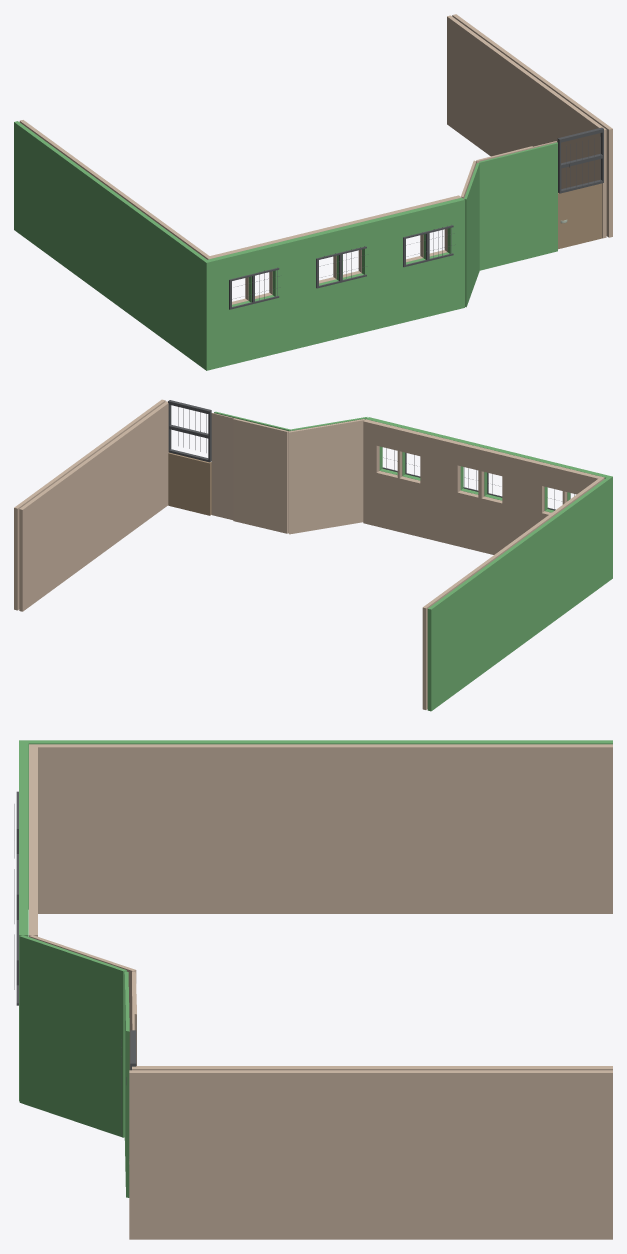
File: casa.glb
The picture shows the model from 3 angles, top to bottom: view 1: azimuth 30°, elevation 25°; view 2: azimuth 150°, elevation 25°; view 3: azimuth 270°, elevation 25°; orthographic projection. The views are drawn at different scales.
Parts seen in each view (by area): view 1: Mesh_Mesh_head_geo.001_lambert2SG.001; view 2: Mesh_Mesh_head_geo.001_lambert2SG.001; view 3: Mesh_Mesh_head_geo.001_lambert2SG.001.
Part boxes in pixels (x1,y1,x2,y2): Mesh_Mesh_head_geo.001_lambert2SG.001: (14, 14, 612, 370); Mesh_Mesh_head_geo.001_lambert2SG.001: (14, 399, 612, 711); Mesh_Mesh_head_geo.001_lambert2SG.001: (14, 740, 612, 1239).
Bounding box in the file's own units: 15 × 3.56 × 11.41.
